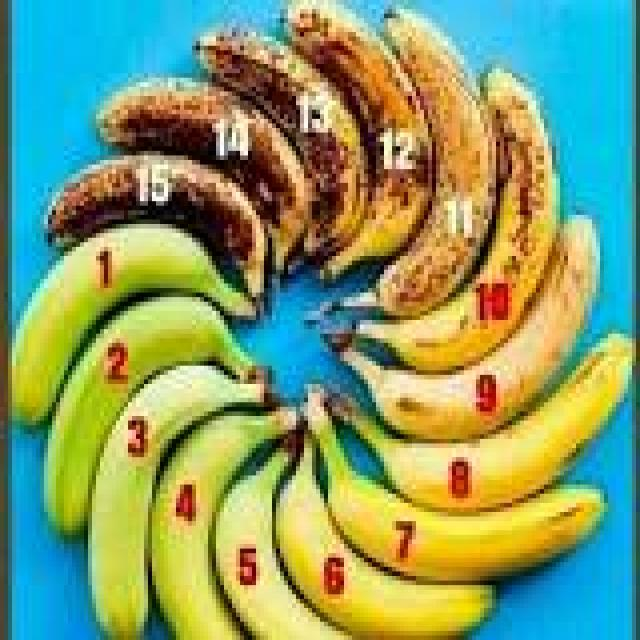banana: (328, 215, 599, 438), (356, 69, 555, 370), (308, 394, 603, 580), (328, 334, 635, 511), (44, 293, 259, 534), (88, 366, 267, 639), (12, 224, 255, 425), (276, 439, 491, 639), (96, 78, 311, 274), (284, 0, 431, 278), (196, 32, 367, 255), (372, 10, 495, 315), (152, 407, 295, 639), (48, 151, 267, 301), (212, 448, 347, 639)
